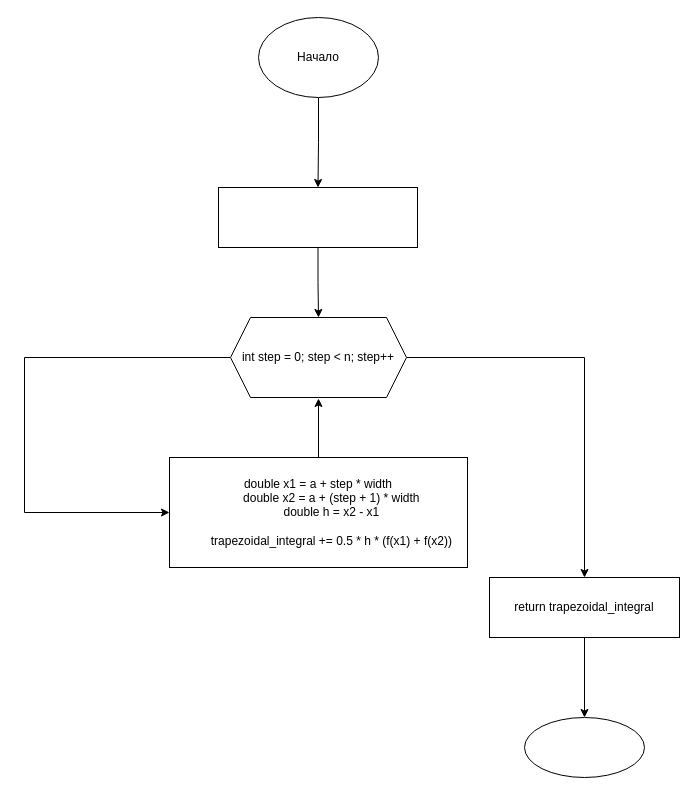
This 697x795 diagram has some shape labels left out. The centre of each missing label's shape, as x and y in pixels:
double width = (b - a) / n double trapezoidal_integral = 0 double x1, x2, h: point (318, 217)
Конец: point (584, 747)
